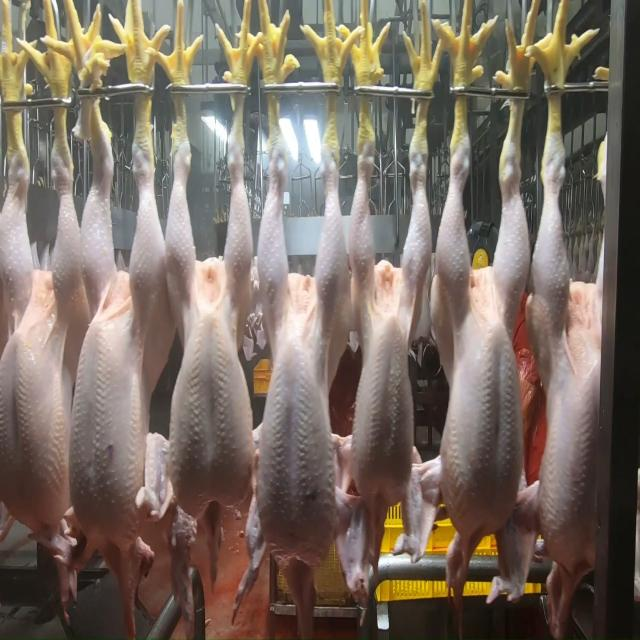chicken: (76, 95, 170, 541), (252, 148, 349, 565), (441, 120, 536, 536), (162, 122, 254, 521), (0, 123, 88, 528), (530, 131, 606, 568), (345, 140, 433, 498)
